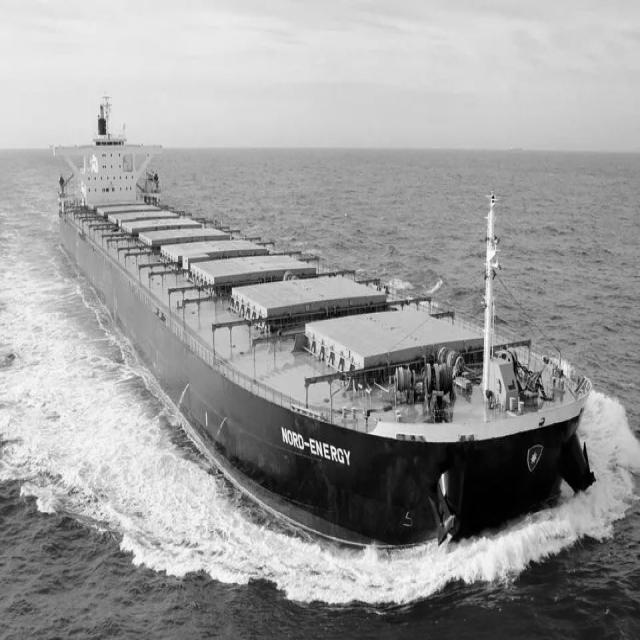Bulk-Carrier: (48, 70, 602, 569)
